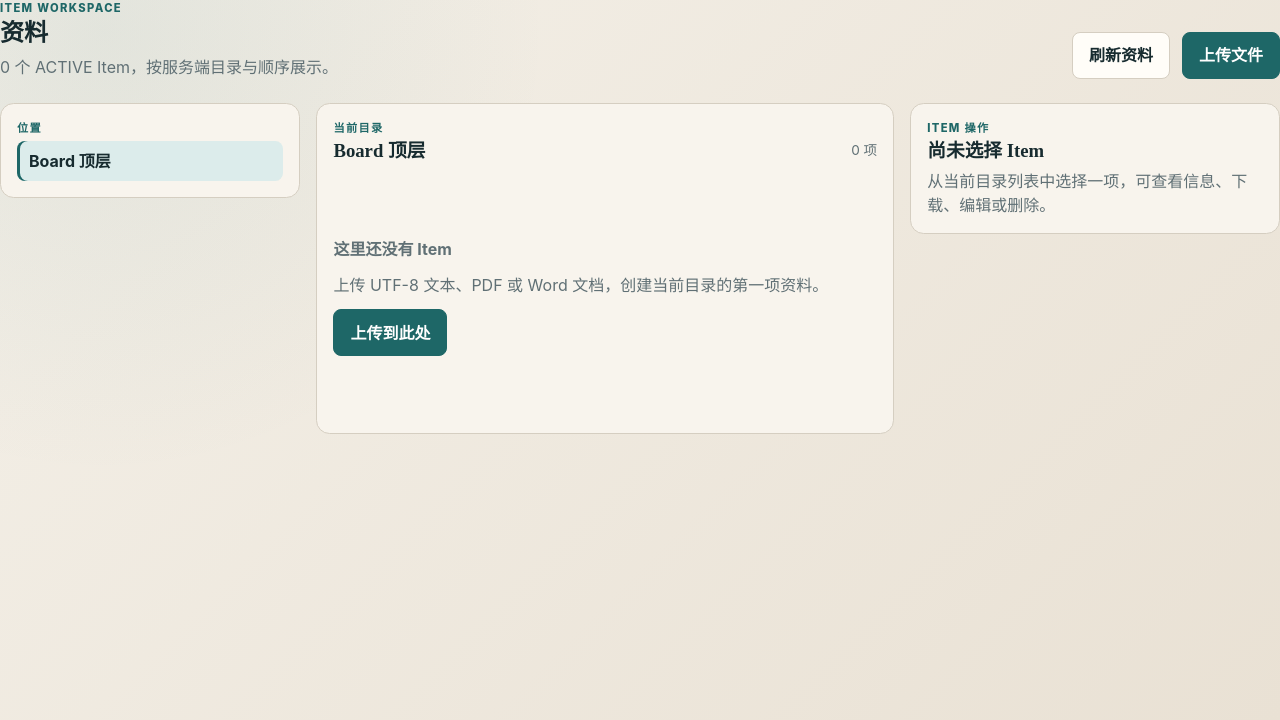
Test case: ItemWorkspace › keeps ALL exclusive in the upload form
Step 1. Click the button "上传文件" → (1231,55), box [1182, 32, 1279, 79]
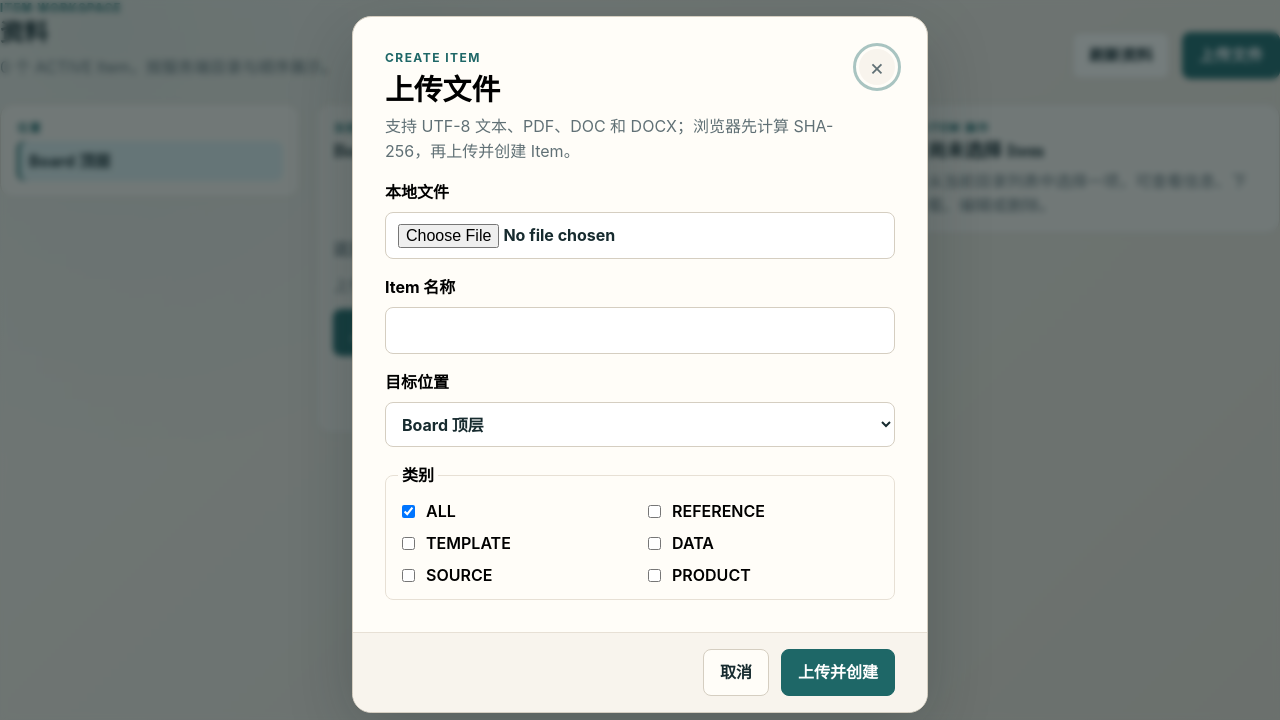
Check: the checkbox labelled "ALL" is checked, box [402, 504, 415, 518]
Step 2. Click the checkbox labelled "DATA" → (654,543), box [648, 536, 661, 550]
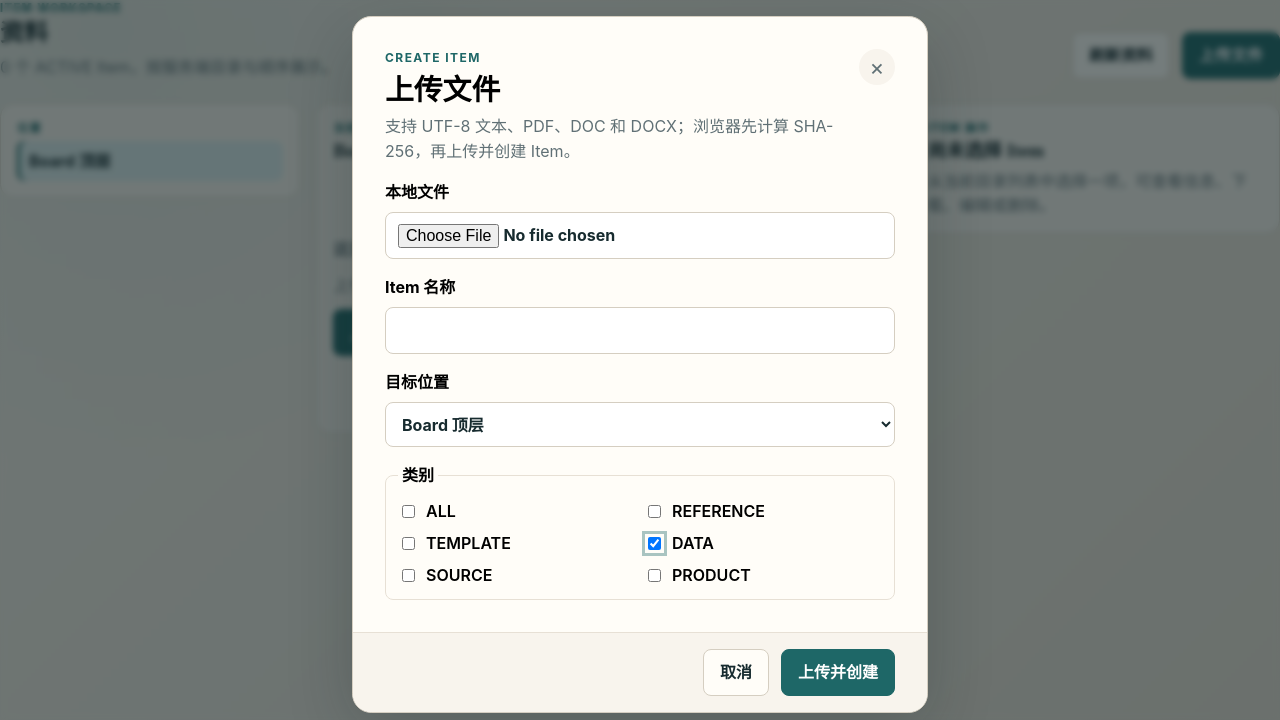
Check: the checkbox labelled "DATA" is checked, box [648, 536, 661, 550]
Check: the checkbox labelled "ALL" is not checked, box [402, 504, 415, 518]
